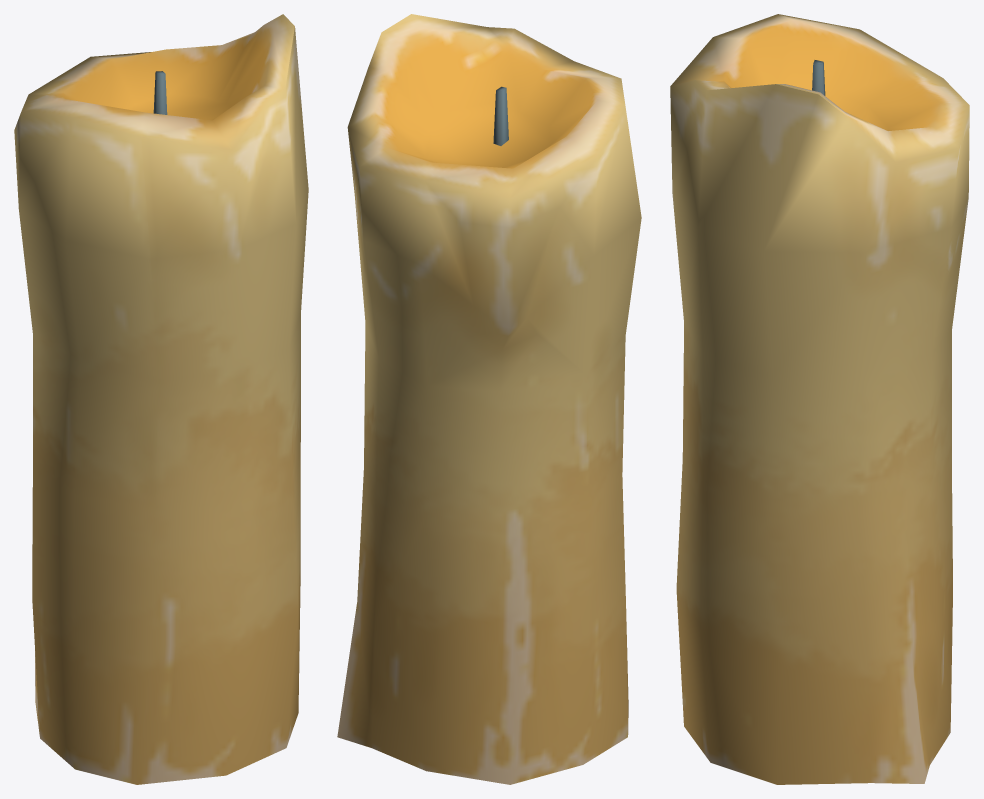
File: Candle_2.gltf
The picture shows the model from 3 angles, left to right: view 1: azimuth 30°, elevation 25°; view 2: azimuth 150°, elevation 25°; view 3: azimuth 270°, elevation 25°; orthographic projection. The views are drawn at different scales.
Visible parts, largest first — view 1: Candle_2; view 2: Candle_2; view 3: Candle_2.
Boxes of the visible parts, left/top/right/bottom form: Candle_2: left=14, top=14, right=308, bottom=784; Candle_2: left=337, top=14, right=641, bottom=784; Candle_2: left=670, top=14, right=969, bottom=784.
Bounding box in the file's own units: 0.0944 × 0.2511 × 0.0975.
1 material, 1 textured.
